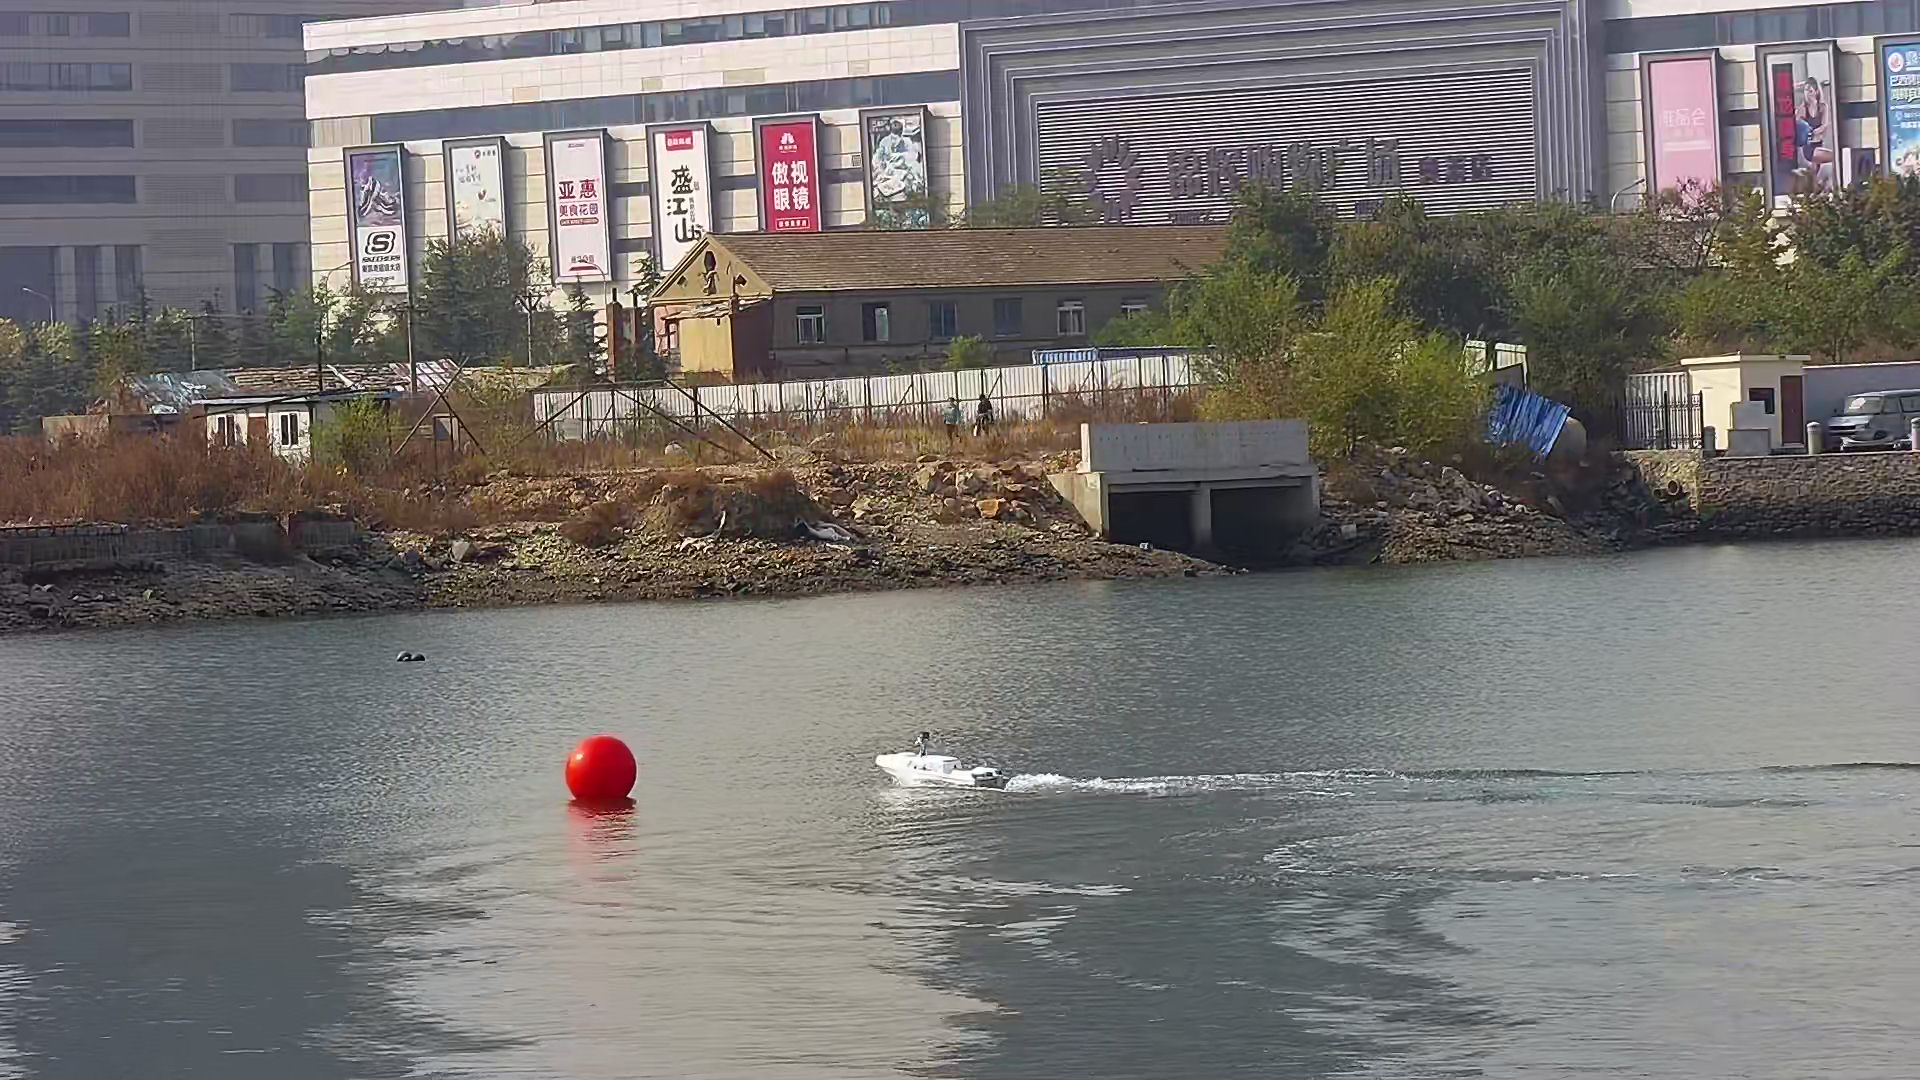ball: (559, 735, 637, 808)
boat: (874, 738, 1011, 796)
rubbish: (390, 649, 425, 665)
